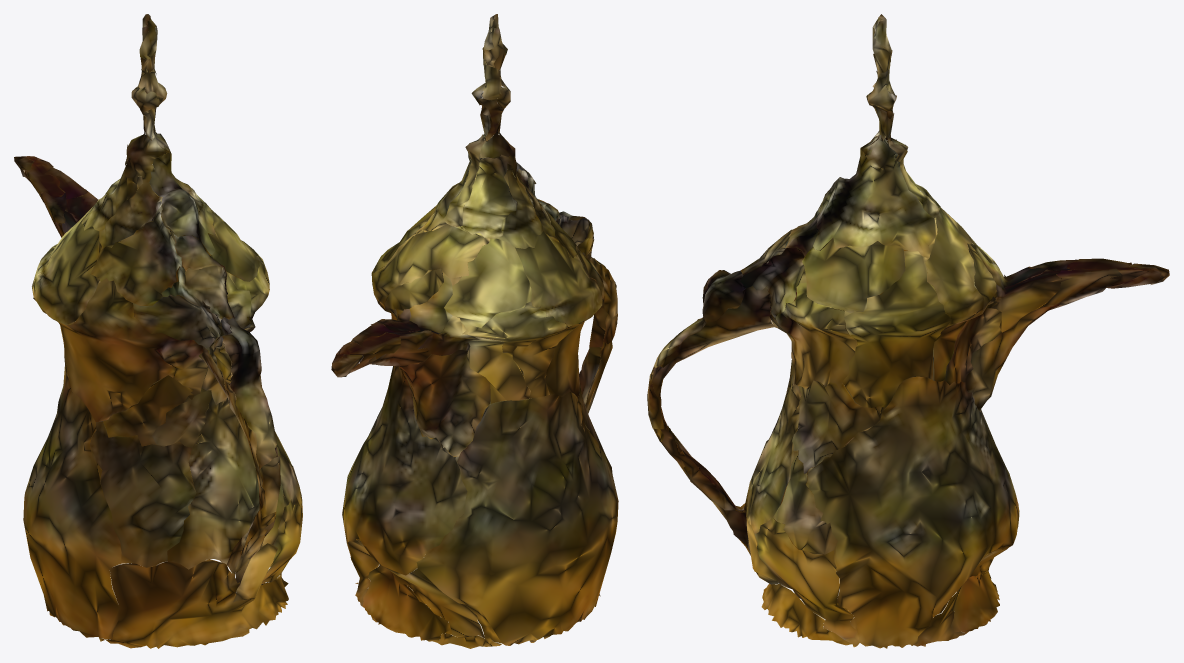
Rendered from dallah.glb.
3 views of the same model, side by side, from view 1: azimuth 30°, elevation 25°; view 2: azimuth 150°, elevation 25°; view 3: azimuth 270°, elevation 25° (orthographic).
Visible parts, largest first — view 1: dallah; view 2: dallah; view 3: dallah.
Boxes of the visible parts, x1,y1,x2,y2 form: dallah: [14, 14, 302, 648]; dallah: [331, 14, 618, 648]; dallah: [647, 14, 1169, 648].
Size of the model in its own units: 0.191 by 0.4501 by 0.3675.
Materials: 1 (1 with a texture image).
